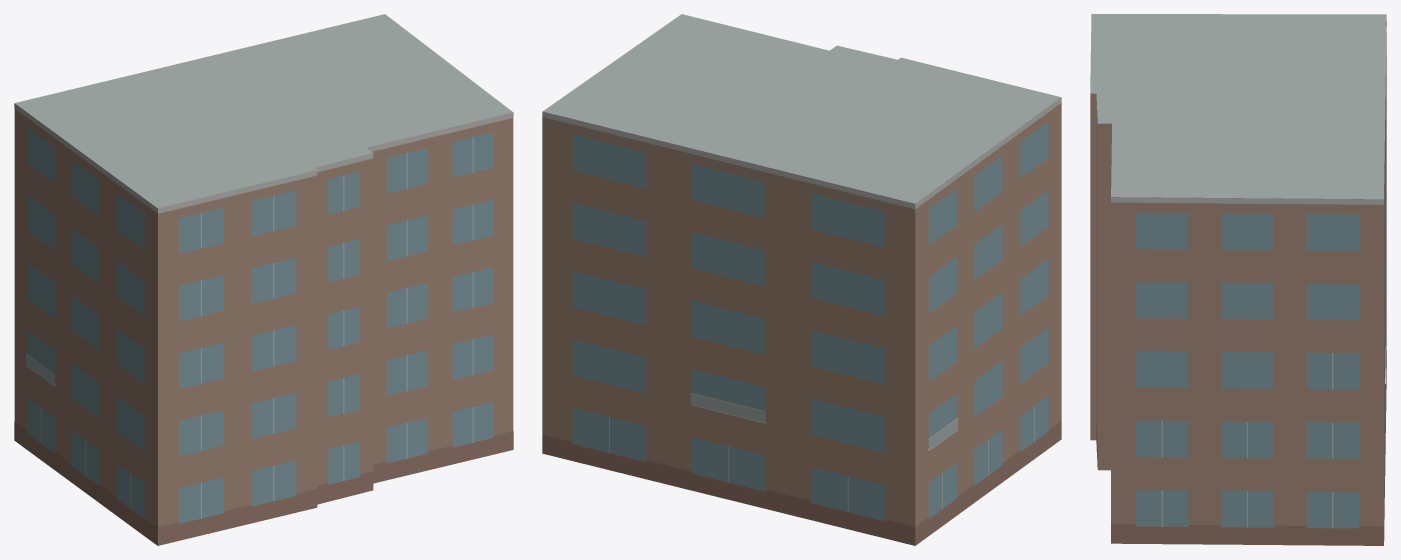
Rendered from survey-upis-32607656.glb.
3 views of the same model, side by side, from view 1: azimuth 30°, elevation 25°; view 2: azimuth 150°, elevation 25°; view 3: azimuth 270°, elevation 25° (orthographic). The views are drawn at different scales.
Visible parts, largest first — view 1: survey-upis-32607656.tmp; view 2: survey-upis-32607656.tmp; view 3: survey-upis-32607656.tmp.
Boxes of the visible parts, left/top/right/bottom form: survey-upis-32607656.tmp: left=14, top=14, right=513, bottom=545; survey-upis-32607656.tmp: left=542, top=14, right=1061, bottom=545; survey-upis-32607656.tmp: left=1090, top=14, right=1386, bottom=545.
Bounding box in the file's own units: 17.51 × 15.25 × 11.84.
